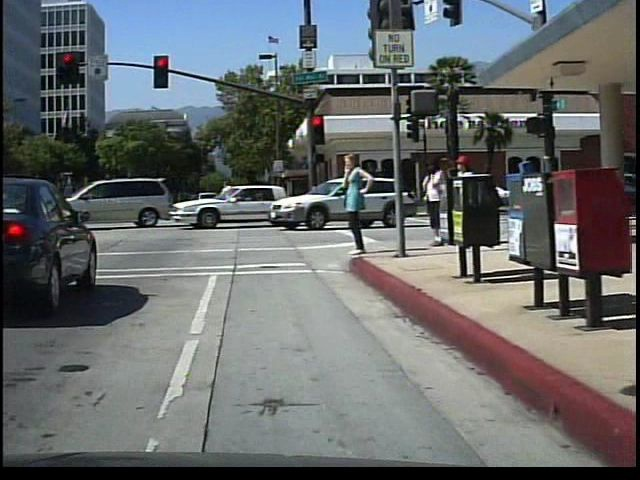person: (337, 148, 373, 260), (445, 146, 480, 249), (420, 149, 451, 248)
